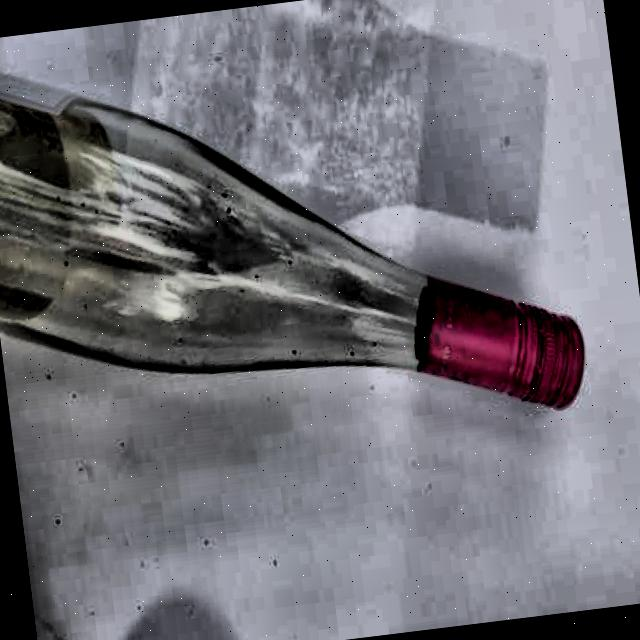glass: (0, 0, 591, 473)
